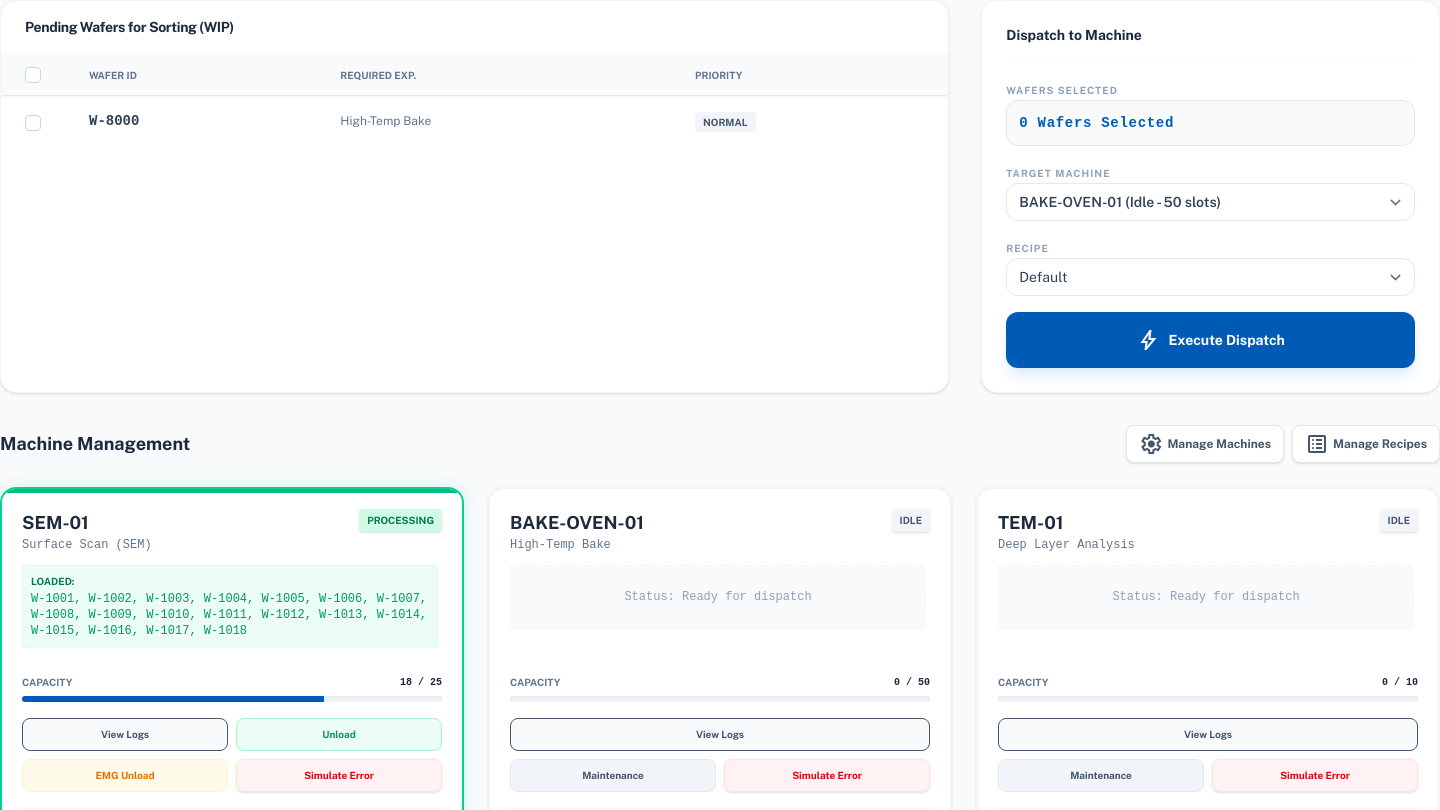
Test: LabOperationsView - Enterprise Finite State Machine Testing Suite › Wafers Process (FSM) › 3. Wafer Path: WIP -> PROCESSING -> EMG Unload -> Scrap (Discard)
Click the checkbox next to "W-8000": (33, 123) [25,115,41,131]
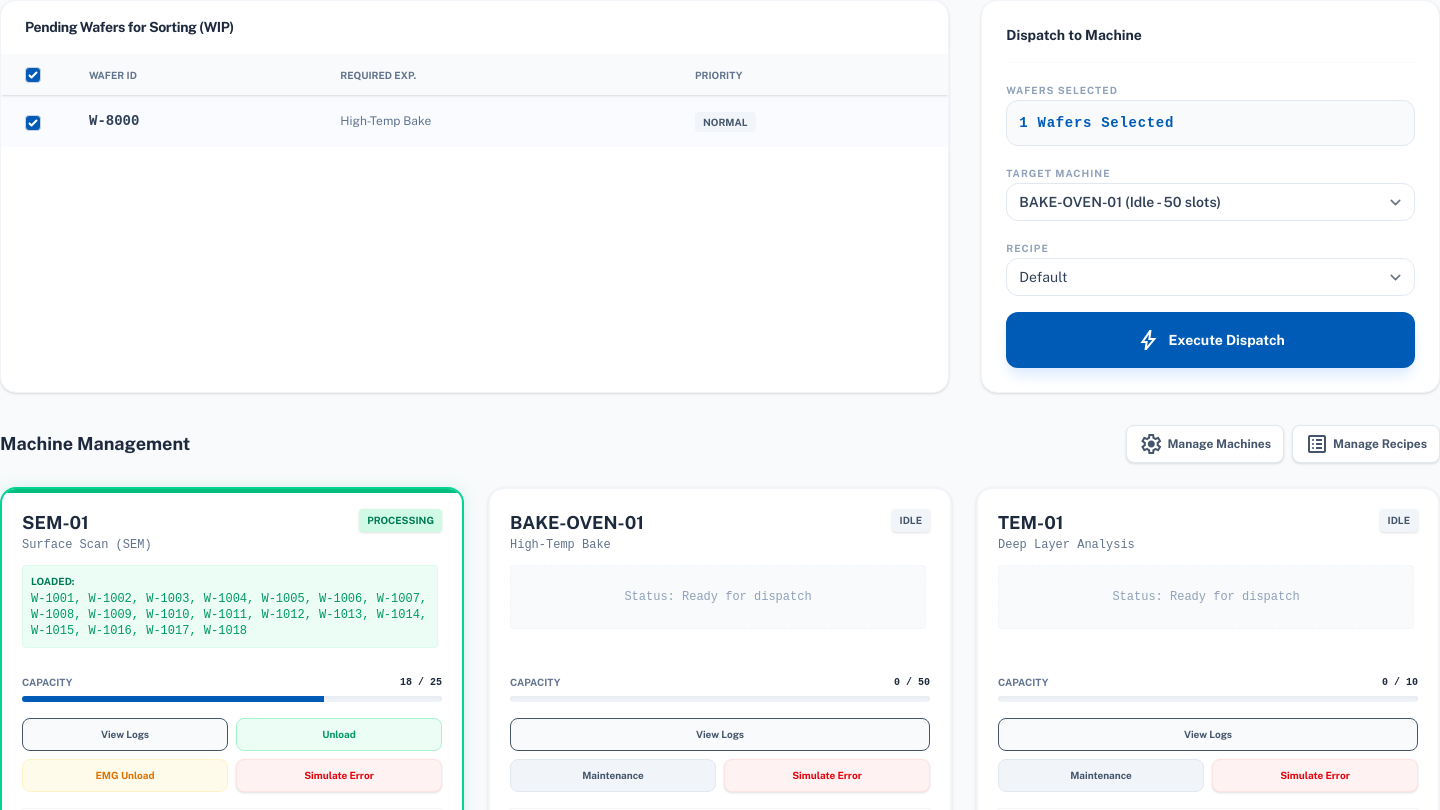
Click the button named "bolt Execute Dispatch": (1211, 340) [1006,312,1415,368]
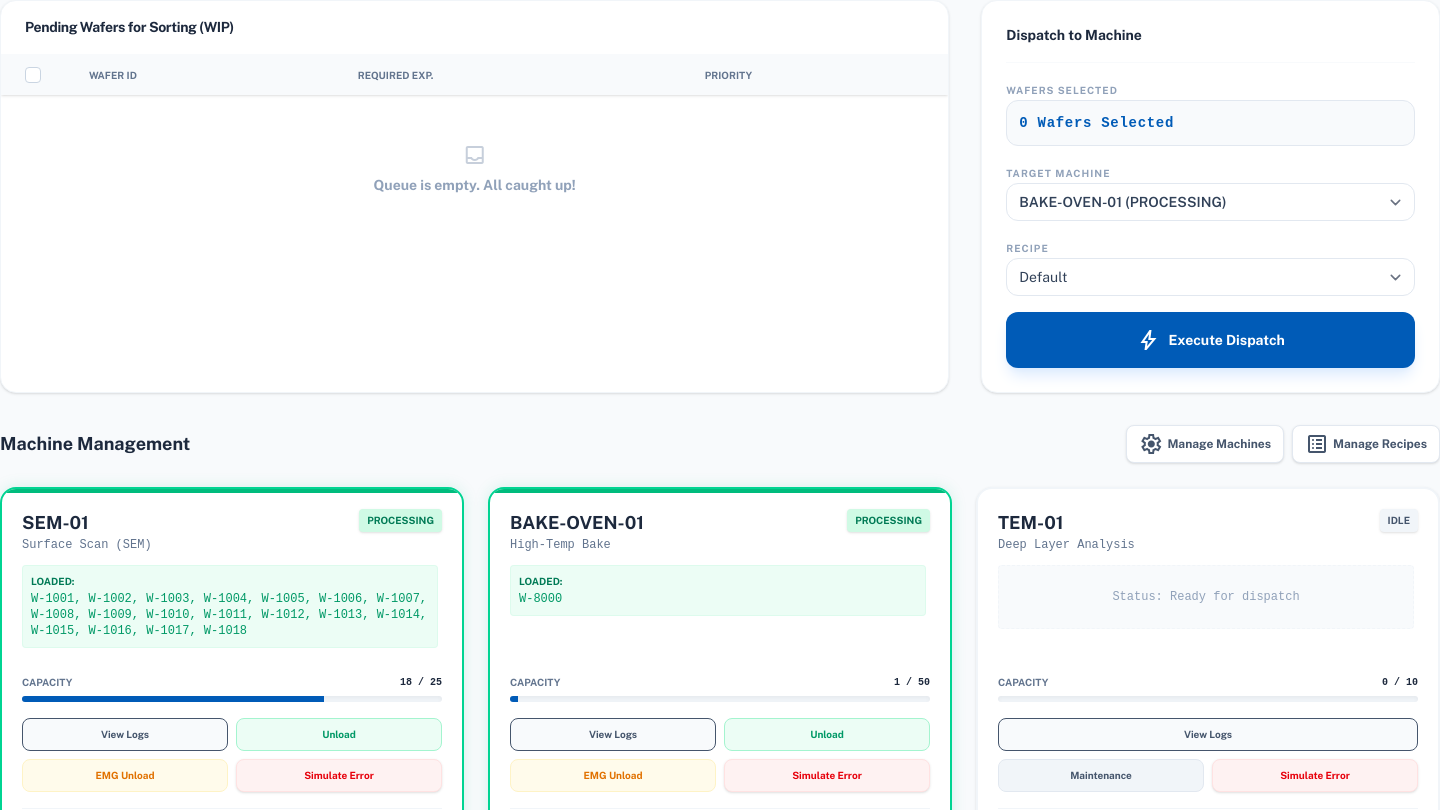
Click the button "EMG Unload" below "W-8000": (613, 776) [510,759,716,792]
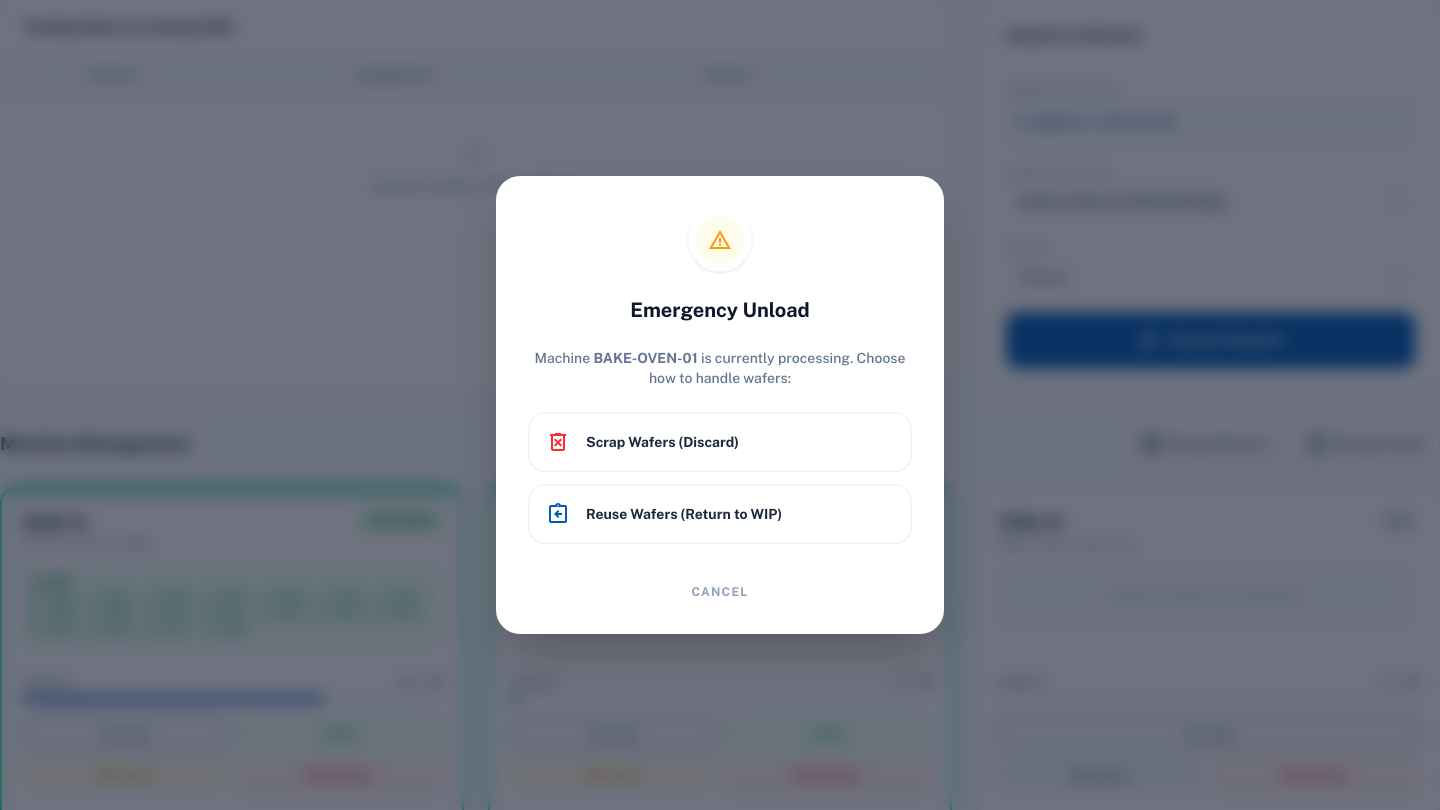
Click the button named "delete_forever Scrap Wafers": (720, 442) [528,412,912,472]
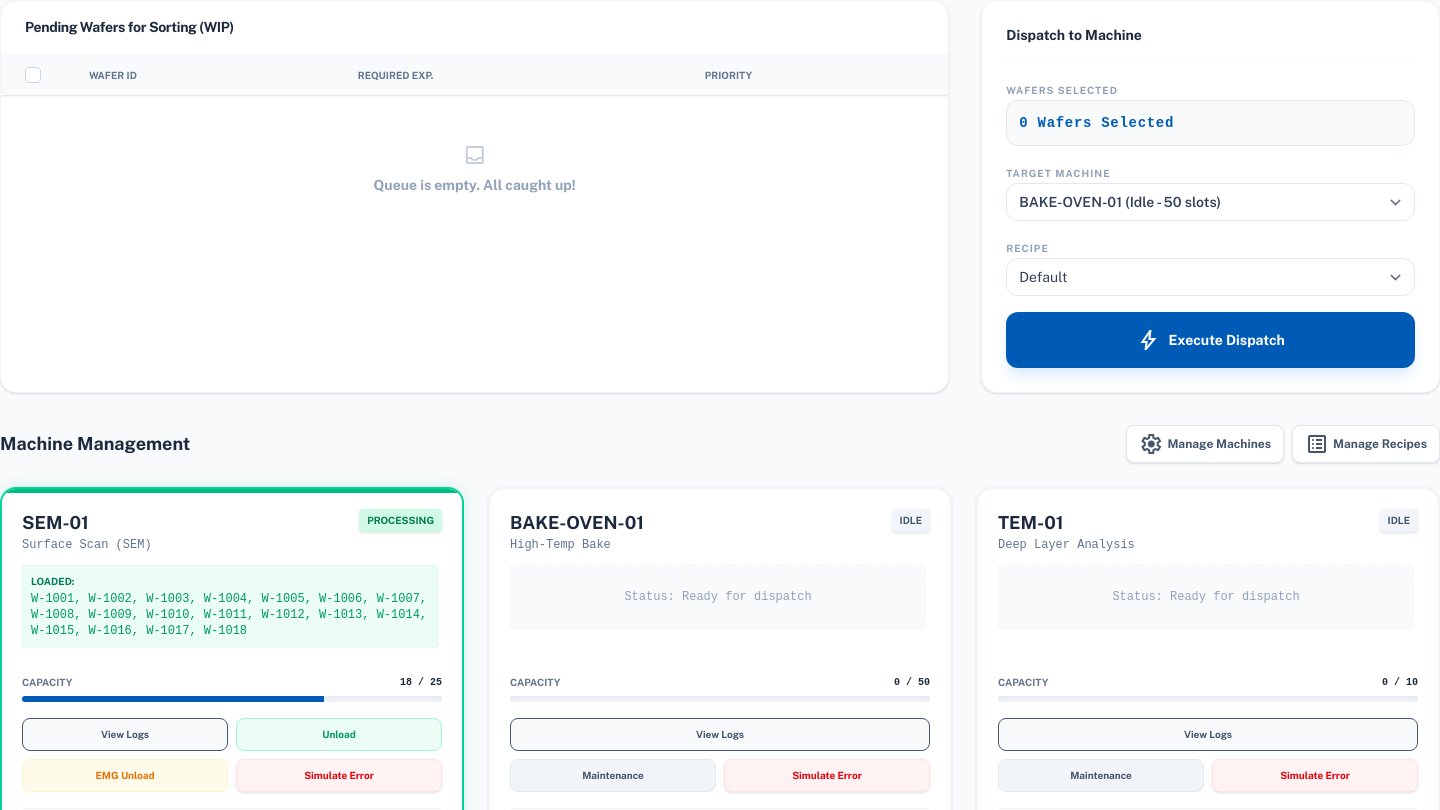
Expected: the text "IDLE" in the row of "BAKE-OVEN-01" is shown, [900,514,922,526]
